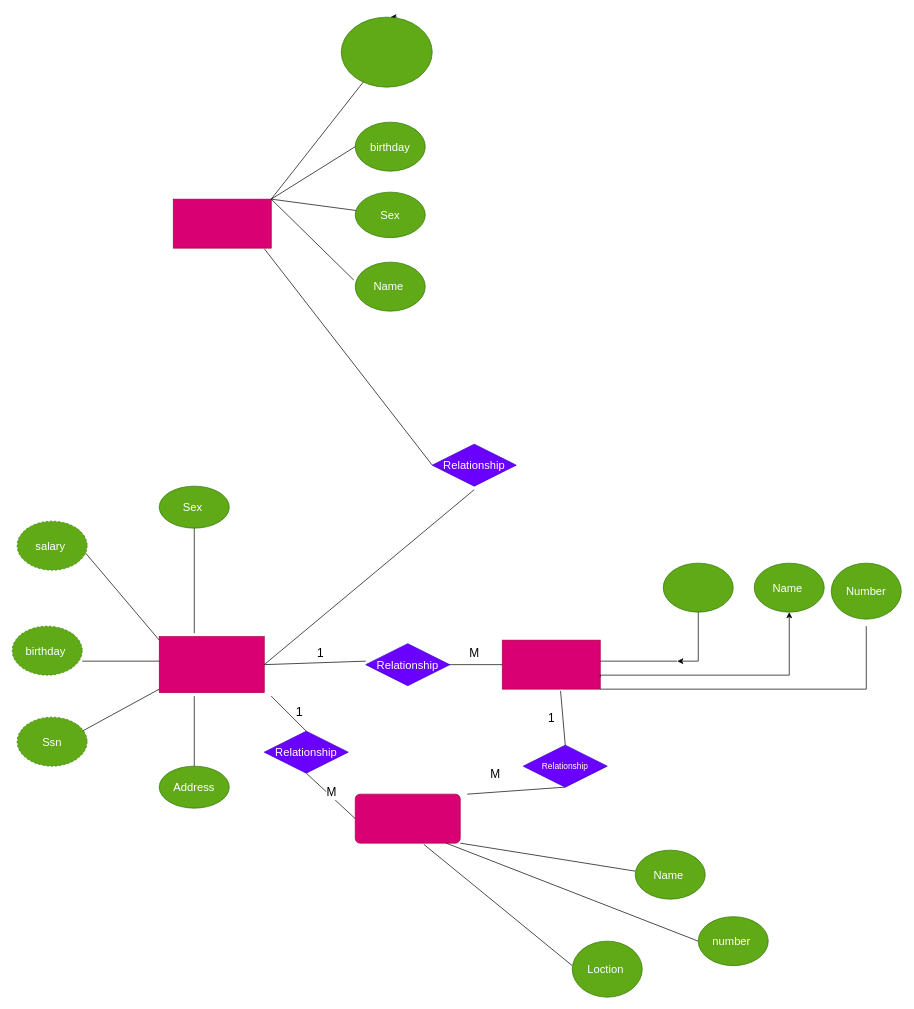
The diagram is 914 pixels wide and 1009 high, and some of its shapes have lost their labels. The centre of each missing label's shape, as x and y in pixels:
department: pixel 551 664
department maneger: pixel 698 587
dependent: pixel 222 223
employees: pixel 211 664
Project: pixel 407 818
Relationship to empoyee: pixel 386 51
